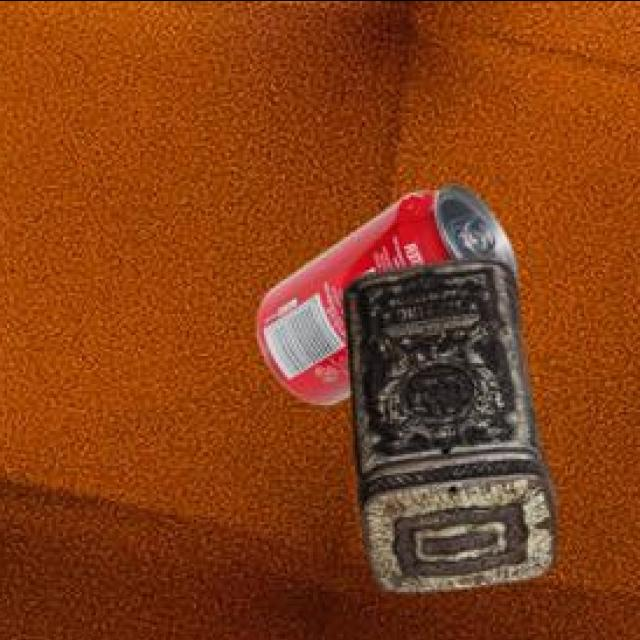logam: (340, 253, 552, 587), (253, 181, 513, 401)
